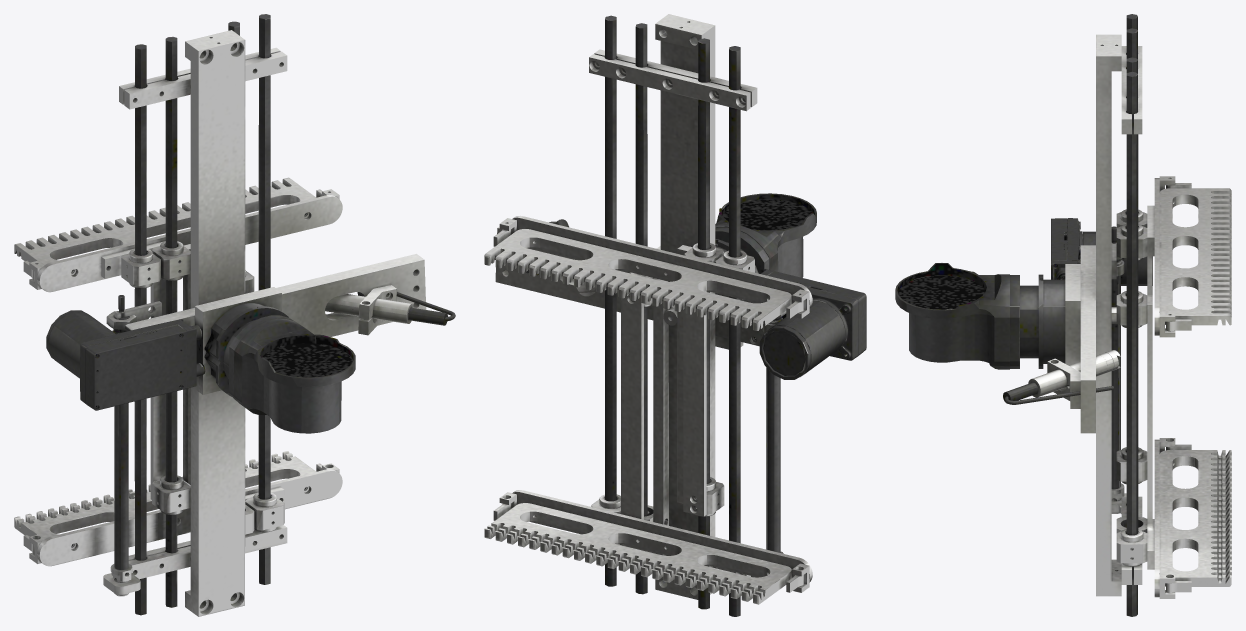
The model's file is robot1_pin.glb.
3 renders of one model, left to right at view 1: azimuth 30°, elevation 25°; view 2: azimuth 150°, elevation 25°; view 3: azimuth 270°, elevation 25°, orthographic. The views are drawn at different scales.
Size of the model in its own units: 373 by 580 by 327.
1 material, 1 textured.
